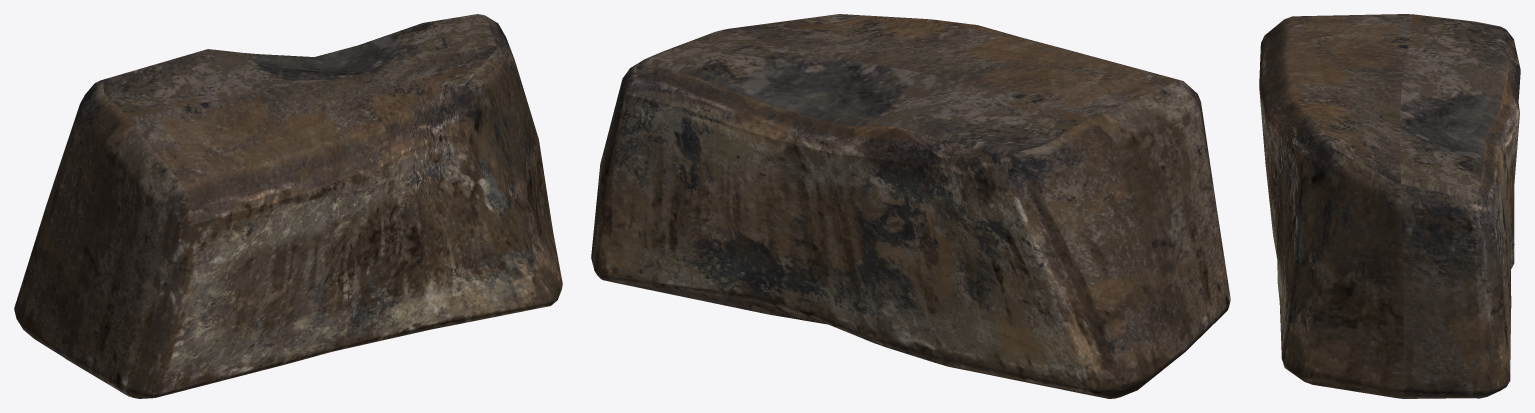
The model's file is wall_taureg_blocks01_detail_04.dae.
3 renders of one model, left to right at view 1: azimuth 30°, elevation 25°; view 2: azimuth 150°, elevation 25°; view 3: azimuth 270°, elevation 25°, orthographic. The views are drawn at different scales.
Parts seen in each view (by area): view 1: wall_taureg_blocks_01_detail_04; view 2: wall_taureg_blocks_01_detail_04; view 3: wall_taureg_blocks_01_detail_04.
Boxes of the visible parts, <box> form: wall_taureg_blocks_01_detail_04: <box>14,14,562,398</box>; wall_taureg_blocks_01_detail_04: <box>591,14,1230,398</box>; wall_taureg_blocks_01_detail_04: <box>1259,14,1520,398</box>.
Size of the model in its own units: 106 by 45.92 by 51.62.
